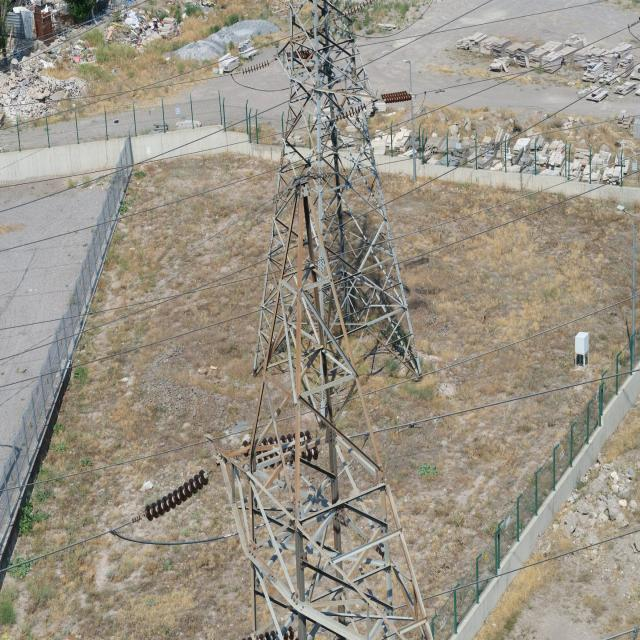direk: (220, 192, 436, 639), (252, 0, 421, 351)
